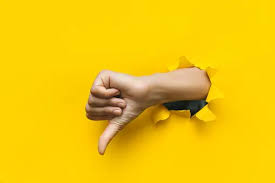ThumbsDown: (85, 68, 150, 157)
